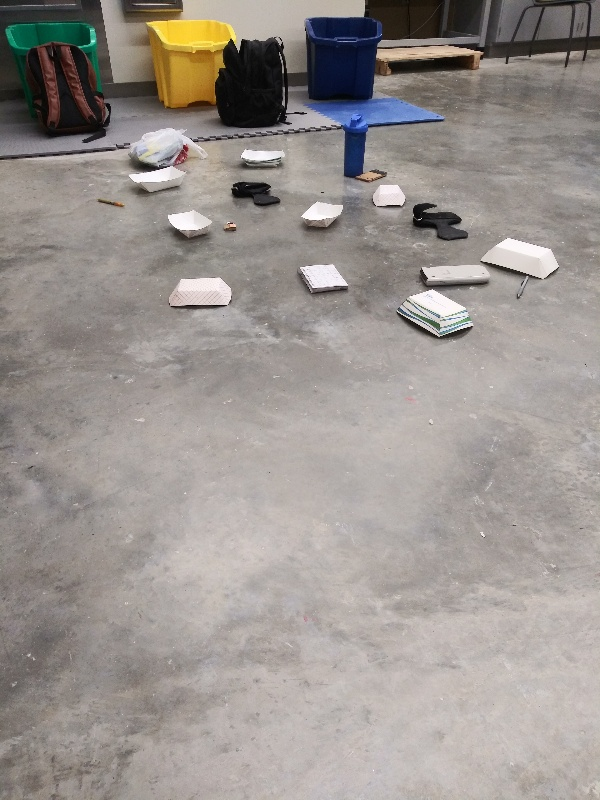plate: (391, 288, 481, 338), (478, 236, 562, 283), (165, 275, 234, 312), (124, 166, 189, 196), (162, 209, 217, 242), (234, 143, 289, 173), (295, 200, 348, 231), (365, 182, 408, 211)
